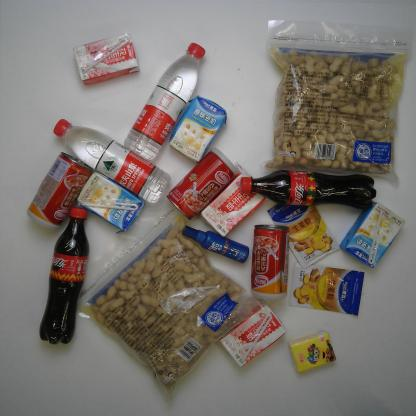Canned Food: (165, 147, 241, 221), (25, 151, 93, 231), (250, 224, 291, 301)
Dried Food: (77, 206, 264, 402), (259, 18, 414, 187)
Drink: (52, 118, 171, 204), (123, 42, 206, 161), (38, 206, 91, 344), (239, 169, 378, 210)
Milk: (338, 200, 406, 270), (200, 166, 266, 238), (218, 303, 288, 368), (76, 171, 145, 235), (168, 94, 228, 164), (71, 30, 141, 86)
Personal Hygiene: (181, 224, 250, 264)
Seasoner: (266, 200, 341, 271), (288, 262, 365, 318)
Tissue: (286, 330, 337, 374)
